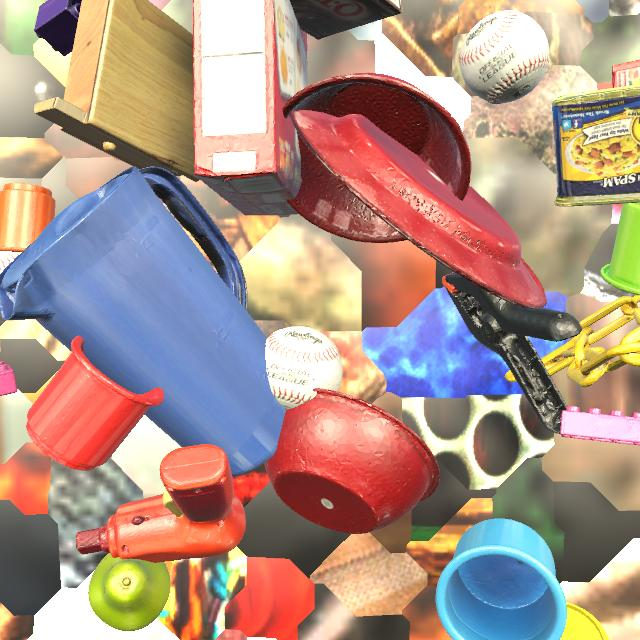ycb_003_cracker_box: (193, 0, 308, 216)
ycb_008_pudding_box: (290, 0, 403, 40)
ycb_009_gelatin_box: (612, 60, 640, 88)
ycb_010_potted_meat_can: (552, 84, 640, 207)
ycb_016_pear: (88, 553, 171, 631)
